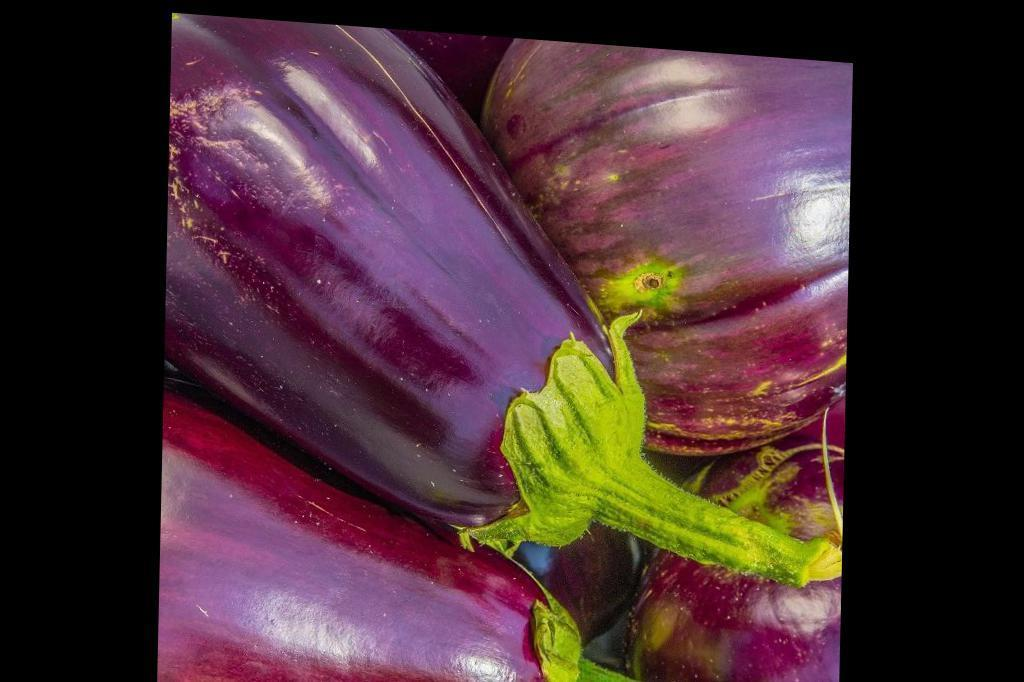eggplant: (162, 10, 812, 604), (160, 398, 759, 681)
